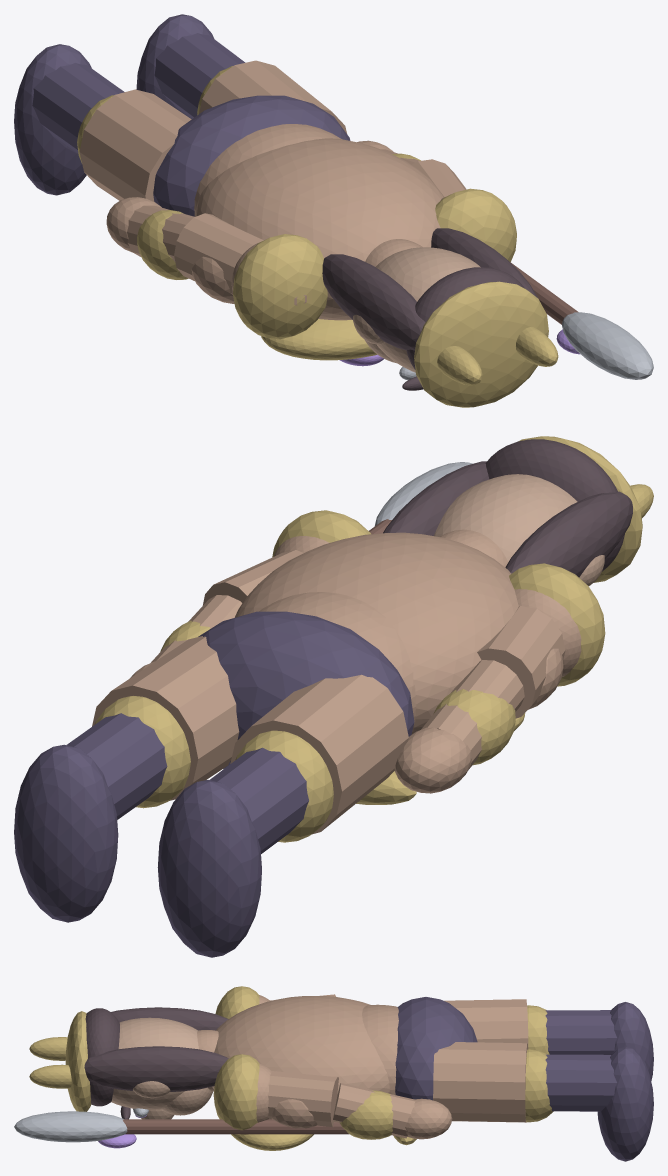
The model's file is goddess_athletic.glb.
3 views of the same model, one above another, from view 1: azimuth 30°, elevation 25°; view 2: azimuth 150°, elevation 25°; view 3: azimuth 270°, elevation 25° (orthographic). The views are drawn at different scales.
Parts seen in each view (by area): view 1: torso, crown, pelvis, thigh_-1, pauldron_-1, boot_-1, hair_lock_-1, shin_-1, shin_1, weapon_blade, pauldron_1, upper_arm_-1 (+16 smaller); view 2: torso, boot_1, boot_-1, pelvis, thigh_-1, thigh_1, head, hair_lock_-1, shin_1, shin_-1, hair_cap, upper_arm_-1 (+17 smaller); view 3: torso, thigh_1, pelvis, hair_lock_1, boot_1, shin_1, head, shin_-1, weapon_blade, pauldron_1, weapon_shaft, thigh_-1 (+21 smaller).
Boxes of the visible parts, left/top/right/bottom form: torso: left=195, top=138, right=443, bottom=320; crown: left=414, top=281, right=548, bottom=407; pelvis: left=153, top=95, right=350, bottom=216; thigh_-1: left=79, top=89, right=191, bottom=201; pauldron_-1: left=233, top=234, right=327, bottom=339; boot_-1: left=14, top=44, right=91, bottom=195; hair_lock_-1: left=322, top=254, right=425, bottom=350; shin_-1: left=32, top=63, right=124, bottom=153; shin_1: left=154, top=33, right=245, bottom=118; weapon_blade: left=561, top=312, right=653, bottom=379; pauldron_1: left=435, top=188, right=516, bottom=262; upper_arm_-1: left=174, top=213, right=263, bottom=294; torso: left=235, top=532, right=518, bottom=734; boot_1: left=14, top=744, right=118, bottom=922; boot_-1: left=157, top=780, right=261, bottom=957; pelvis: left=198, top=611, right=414, bottom=768; thigh_-1: left=230, top=674, right=408, bottom=834; thigh_1: left=92, top=636, right=239, bottom=800; head: left=434, top=474, right=577, bottom=561; hair_lock_-1: left=505, top=491, right=632, bottom=577; shin_1: left=66, top=713, right=167, bottom=819; shin_-1: left=210, top=747, right=308, bottom=853; hair_cap: left=485, top=439, right=624, bottom=571; upper_arm_-1: left=477, top=605, right=565, bottom=718; torso: left=212, top=996, right=389, bottom=1093; thigh_1: left=433, top=1042, right=528, bottom=1122; pelvis: left=395, top=997, right=477, bottom=1100; hair_lock_1: left=84, top=1046, right=228, bottom=1091; boot_1: left=597, top=1046, right=653, bottom=1161; shin_1: left=545, top=1054, right=616, bottom=1111; head: left=111, top=1017, right=198, bottom=1109; shin_-1: left=545, top=1010, right=616, bottom=1054; weapon_blade: left=14, top=1111, right=127, bottom=1142; pauldron_1: left=213, top=1054, right=259, bottom=1135; weapon_shaft: left=123, top=1119, right=348, bottom=1134; thigh_-1: left=444, top=999, right=528, bottom=1048.
Size of the model in its own units: 1.14 by 0.68 by 2.92.
